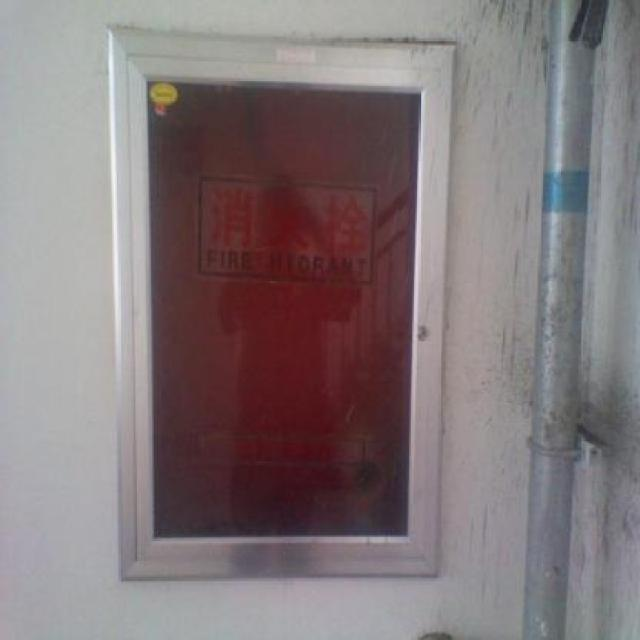firehydrant: (105, 18, 460, 587)
